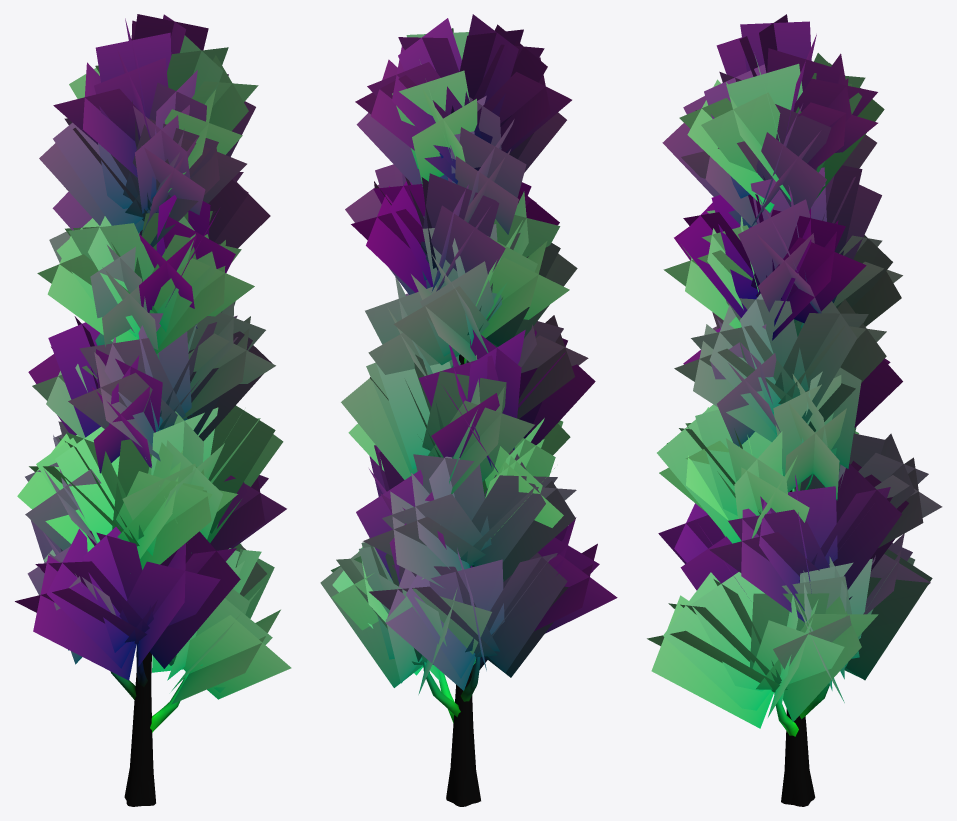
The model's file is Tree_9_4.fbx.
The picture shows the model from 3 angles, left to right: view 1: azimuth 30°, elevation 25°; view 2: azimuth 150°, elevation 25°; view 3: azimuth 270°, elevation 25°; orthographic projection.
Parts seen in each view (by area): view 1: _4; view 2: _4; view 3: _4.
Boxes of the visible parts, x1=… form: _4: x1=15, y1=14, x2=291, y2=806; _4: x1=320, y1=14, x2=617, y2=806; _4: x1=647, y1=14, x2=942, y2=806.
Bounding box in the file's own units: 723 × 2026 × 703.
